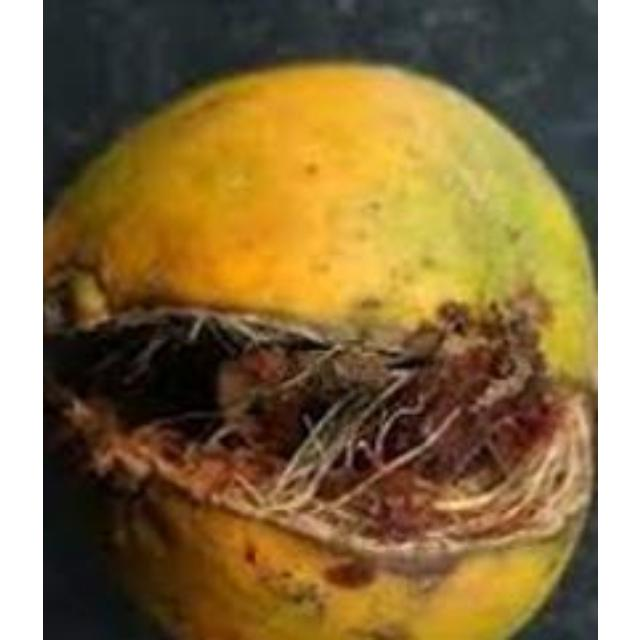damaged: (42, 61, 594, 637)
